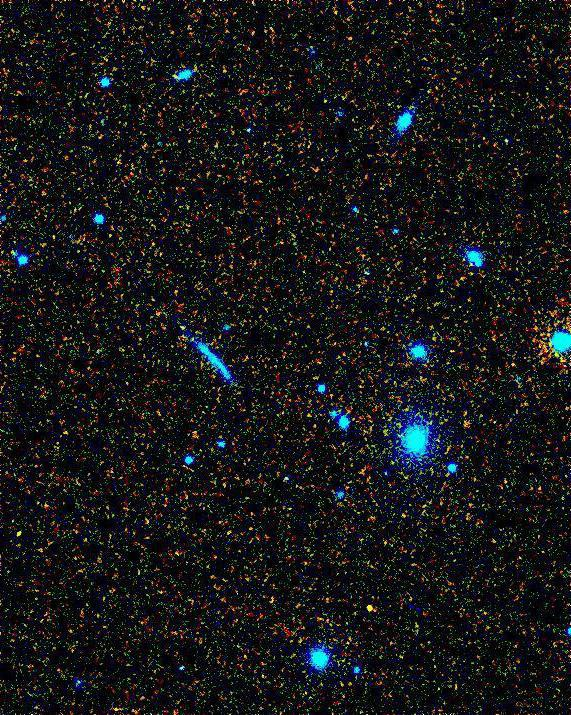star: (355, 592, 385, 622)
